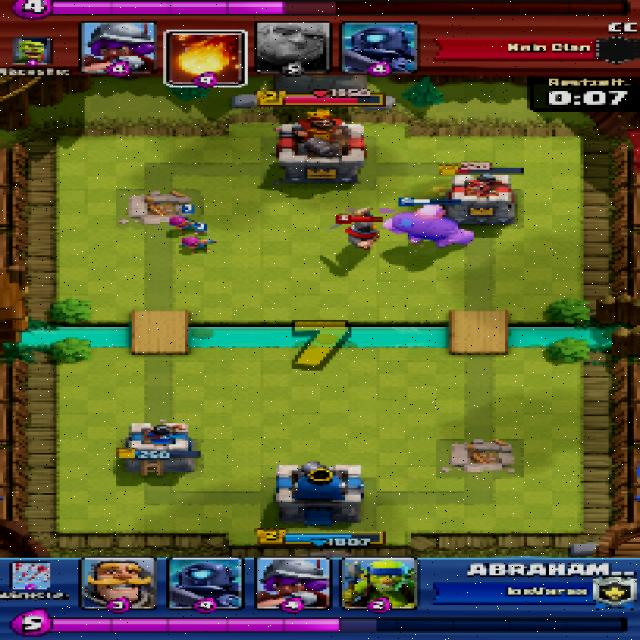Enemy-Knight: (333, 209, 382, 251)
Player-Archer: (167, 214, 202, 234), (177, 235, 214, 252)
Player-Giant: (384, 200, 472, 246)
